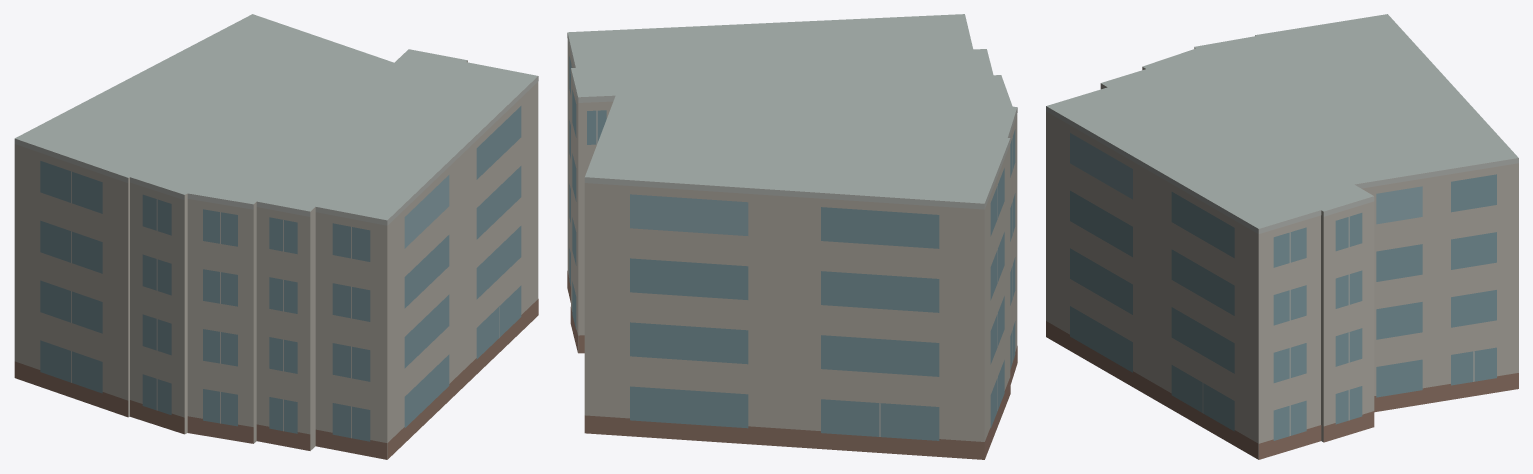
Rendered from survey-upis-32829821.glb.
The picture shows the model from 3 angles, left to right: view 1: azimuth 30°, elevation 25°; view 2: azimuth 150°, elevation 25°; view 3: azimuth 270°, elevation 25°; orthographic projection. The views are drawn at different scales.
Visible parts, largest first — view 1: survey-upis-32829821.tmp; view 2: survey-upis-32829821.tmp; view 3: survey-upis-32829821.tmp.
Part boxes in pixels (x1,y1,x2,y2): survey-upis-32829821.tmp: (14, 14, 538, 459); survey-upis-32829821.tmp: (567, 14, 1017, 459); survey-upis-32829821.tmp: (1046, 14, 1518, 459).
Bounding box in the file's own units: 21.57 × 10.8 × 20.05.
